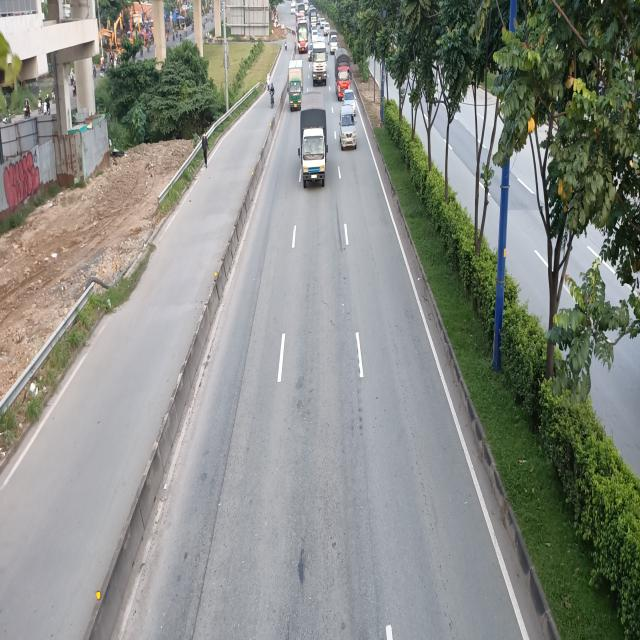car: (340, 104, 357, 151), (329, 36, 338, 54)
coach: (297, 22, 308, 52)
container: (310, 41, 328, 84)
truck: (298, 93, 326, 190), (286, 59, 304, 112), (334, 49, 350, 98)
